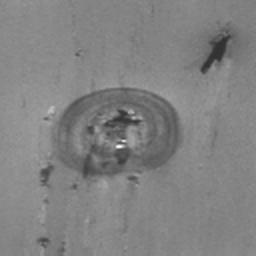Slag inclusion: (56, 86, 180, 182), (200, 22, 236, 76), (40, 164, 56, 186), (36, 236, 54, 248), (58, 242, 67, 256), (74, 50, 82, 58)
